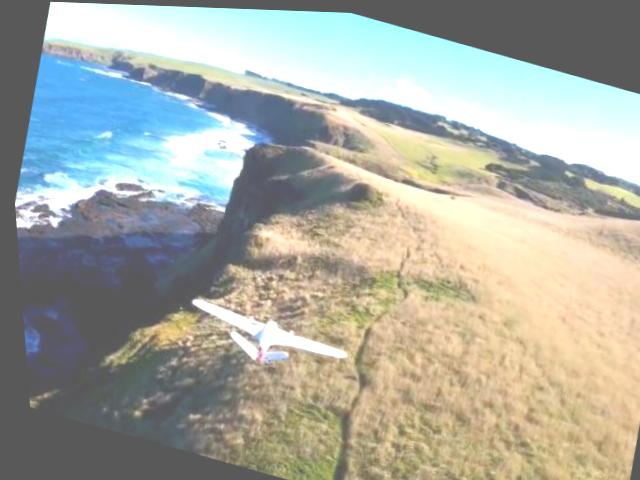uav: (174, 290, 349, 388)
